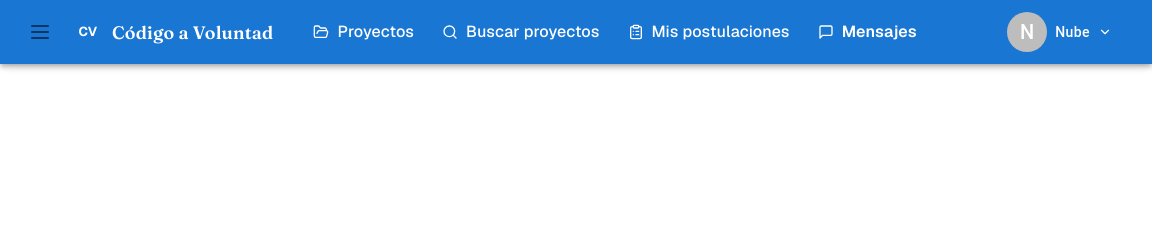
Navbar › el perfil, la cuenta y cerrar sesión están en el menú de quien tiene la sesión
Click the button with aria-label "Cuenta de Nube" at (1060, 32), box [999, 6, 1120, 58]
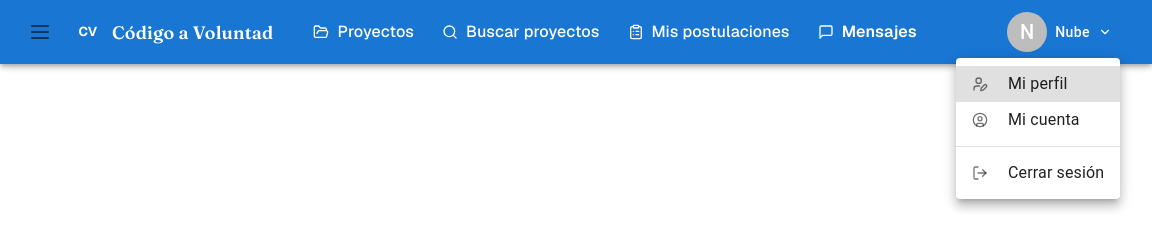
Expected: the menu items read "Mi perfil", "Mi cuenta", "Cerrar sesión", in this order, [956, 66, 1120, 102]; [972, 110, 1080, 129]; [972, 163, 1104, 182]
